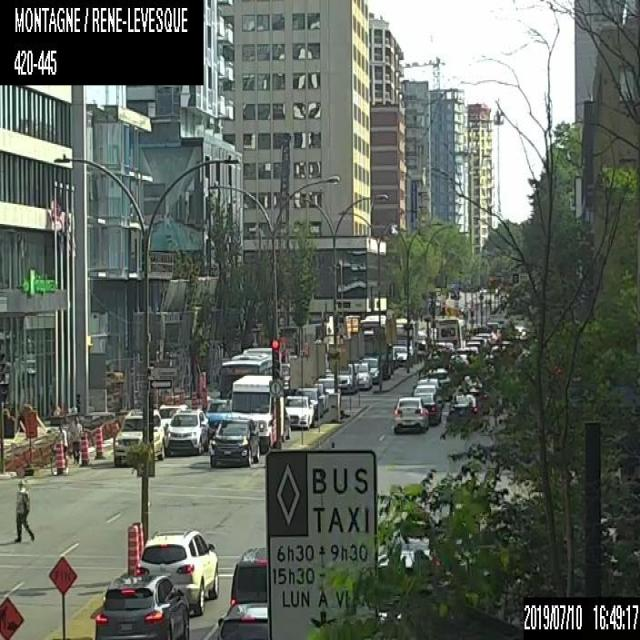bus: (220, 344, 274, 399), (434, 316, 465, 348), (358, 312, 385, 333)
construction: (5, 408, 64, 474), (50, 554, 77, 636), (0, 594, 22, 638), (125, 519, 139, 576), (79, 432, 91, 466), (132, 521, 144, 555), (94, 426, 105, 460), (55, 440, 64, 474), (111, 421, 119, 453), (64, 433, 71, 455)
cyclist: (49, 424, 68, 474)
pedestrian: (12, 478, 34, 542), (69, 412, 82, 464)
vehicle: (137, 528, 215, 613), (93, 574, 189, 638), (230, 373, 279, 447), (114, 402, 164, 465), (210, 416, 258, 466), (163, 406, 209, 456), (230, 547, 268, 603), (216, 604, 268, 638), (392, 396, 428, 433), (448, 393, 483, 429), (410, 383, 442, 422), (457, 375, 489, 413), (283, 395, 313, 430), (203, 398, 230, 436), (157, 403, 188, 433), (294, 386, 323, 417), (428, 368, 451, 401), (315, 377, 340, 405), (338, 361, 357, 393), (353, 360, 372, 388), (359, 357, 378, 383), (416, 376, 442, 393), (448, 352, 469, 373), (313, 382, 328, 410), (392, 343, 406, 366), (390, 349, 396, 368)
